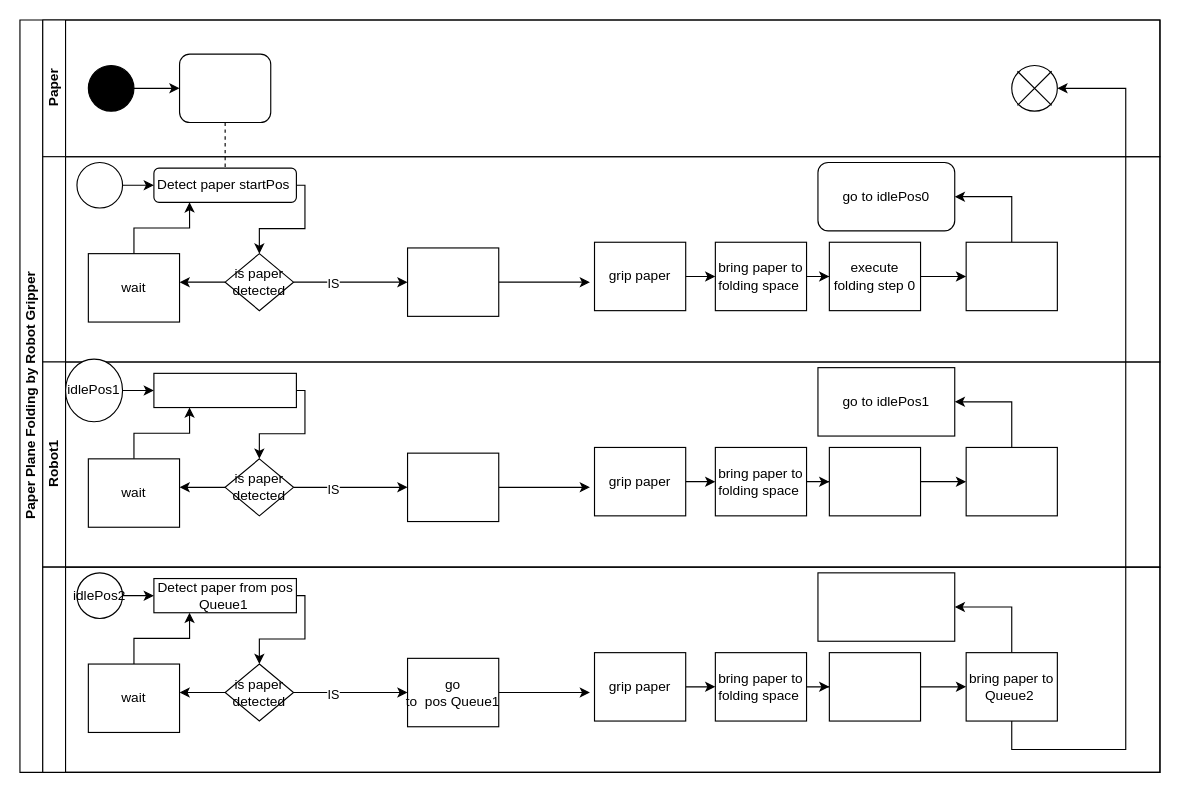
This 1180x792 diagram has some shape labels left out. Each missing label, with the box of its shape:
bring paper to Queue0: (965, 241, 1057, 311)
bring paper to Queue1: (965, 446, 1057, 516)
Detect paper from pos Queue0: (153, 372, 296, 408)
execute folding step 1: (828, 446, 921, 516)
execute folding step 2: (828, 652, 921, 721)
go to idlePos2: (817, 572, 955, 641)
go to pos Queue0: (406, 452, 499, 522)
go to startPos: (406, 247, 499, 316)
idlePos0: (76, 161, 123, 208)
lay on startPos: (178, 53, 271, 123)
Robot0: (42, 156, 1160, 362)
Robot2: (42, 566, 1160, 772)
